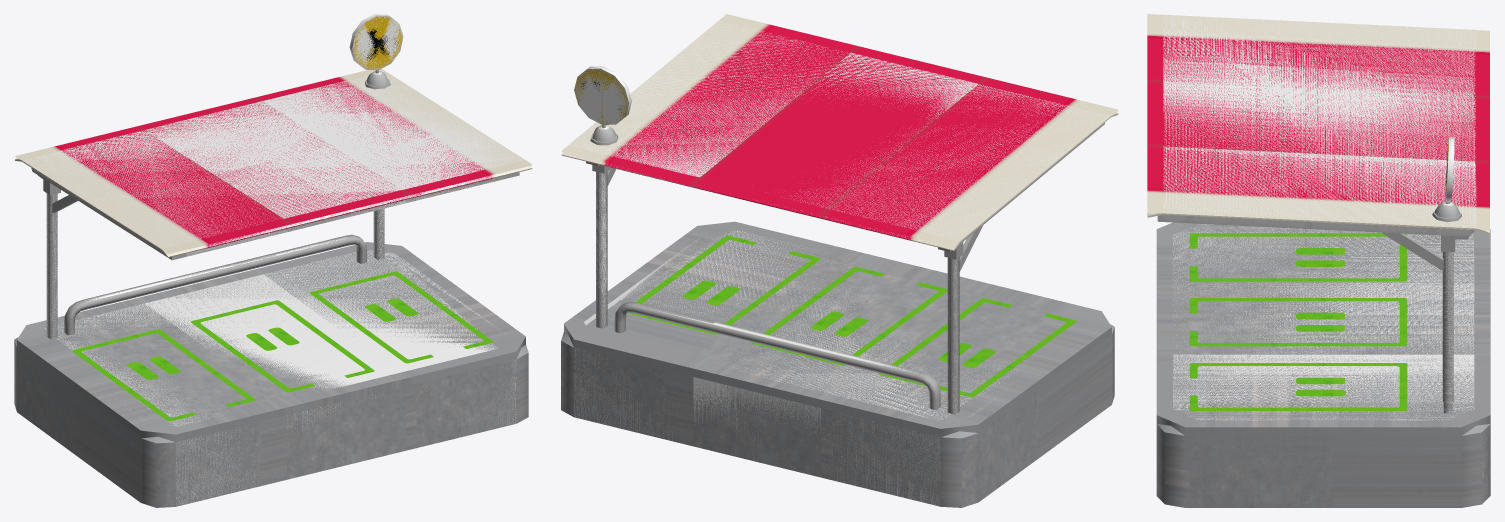
File: objects_un_parking01.gltf
3 views of the same model, side by side, from view 1: azimuth 30°, elevation 25°; view 2: azimuth 150°, elevation 25°; view 3: azimuth 270°, elevation 25° (orthographic). The views are drawn at different scales.
Visible parts, largest first — view 1: um_objects_un_parking01_model_lod0Shape:objects_un_parking01 (×3), um_objects_un_parking01_model_lod2Shape:objects_un_parking01 (×2), nomerge_objects_un_parking01_framework_shape:objects_un_park, nomerge_objects_un_parking01_line02_shape:objects_un_parking, nomerge_objects_un_parking01_signboard02_shape:objects_un_pa; view 2: um_objects_un_parking01_model_lod0Shape:objects_un_parking01 (×3), um_objects_un_parking01_model_lod2Shape:objects_un_parking01 (×2), nomerge_objects_un_parking01_framework_shape:objects_un_park, nomerge_objects_un_parking01_line02_shape:objects_un_parking, nomerge_objects_un_parking01_signboard02_shape:objects_un_pa; view 3: um_objects_un_parking01_model_lod0Shape:objects_un_parking01 (×3), um_objects_un_parking01_model_lod2Shape:objects_un_parking01 (×2), nomerge_objects_un_parking01_line02_shape:objects_un_parking, nomerge_objects_un_parking01_framework_shape:objects_un_park, nomerge_objects_un_parking01_signboard02_shape:objects_un_pa.
Part boxes in pixels (x1,y1,x2,y2): um_objects_un_parking01_model_lod0Shape:objects_un_parking01 (×3): [14, 15, 532, 507]; um_objects_un_parking01_model_lod2Shape:objects_un_parking01 (×2): [15, 69, 532, 505]; nomerge_objects_un_parking01_framework_shape:objects_un_park: [31, 168, 519, 339]; nomerge_objects_un_parking01_line02_shape:objects_un_parking: [72, 271, 493, 421]; nomerge_objects_un_parking01_signboard02_shape:objects_un_pa: [349, 14, 403, 89]; um_objects_un_parking01_model_lod0Shape:objects_un_parking01 (×3): [561, 20, 1118, 507]; um_objects_un_parking01_model_lod2Shape:objects_un_parking01 (×2): [562, 14, 1118, 505]; nomerge_objects_un_parking01_framework_shape:objects_un_park: [586, 123, 1104, 414]; nomerge_objects_un_parking01_line02_shape:objects_un_parking: [627, 235, 1076, 397]; nomerge_objects_un_parking01_signboard02_shape:objects_un_pa: [574, 66, 631, 145]; um_objects_un_parking01_model_lod0Shape:objects_un_parking01 (×3): [1147, 14, 1490, 507]; um_objects_un_parking01_model_lod2Shape:objects_un_parking01 (×2): [1147, 14, 1490, 507]; nomerge_objects_un_parking01_line02_shape:objects_un_parking: [1189, 233, 1407, 410]; nomerge_objects_un_parking01_framework_shape:objects_un_park: [1157, 214, 1474, 413]; nomerge_objects_un_parking01_signboard02_shape:objects_un_pa: [1432, 137, 1461, 222].
Size of what is drawn, in the model's own units: 9.37 by 7.31 by 6.47.
6 materials, 5 textured.
